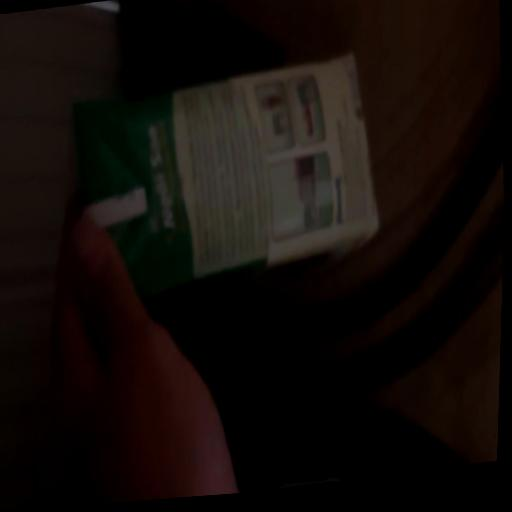ly_giay: (75, 55, 378, 298)
